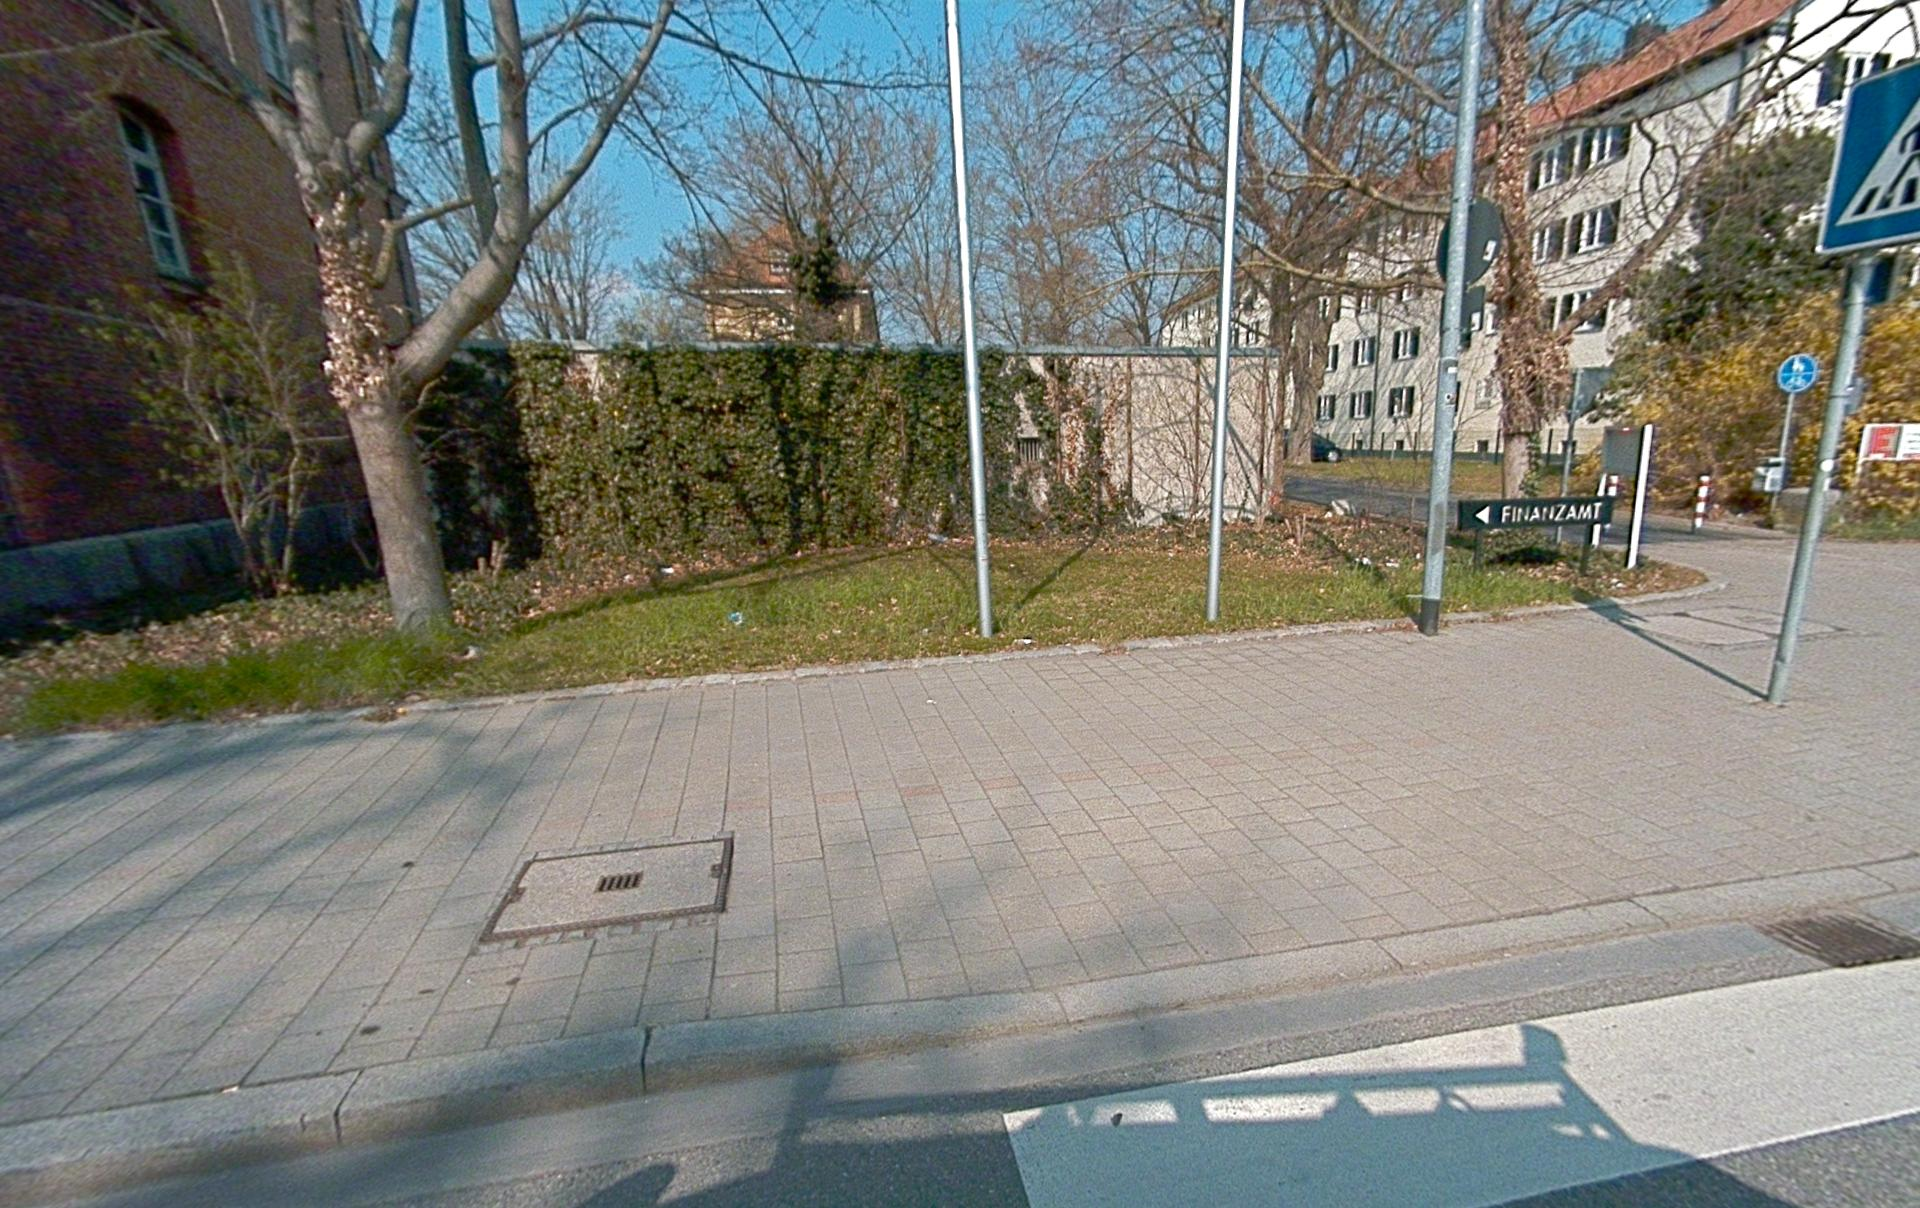traffic sign: (1814, 60, 1919, 256), (1434, 195, 1505, 289), (1458, 494, 1614, 532), (1775, 353, 1818, 394)
